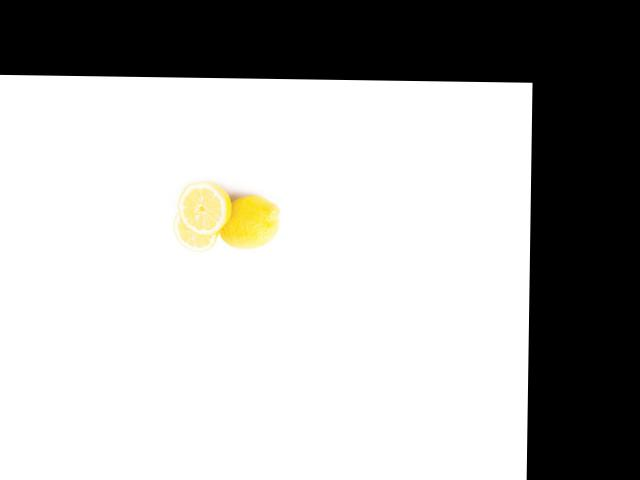lemon: (218, 193, 284, 252)
